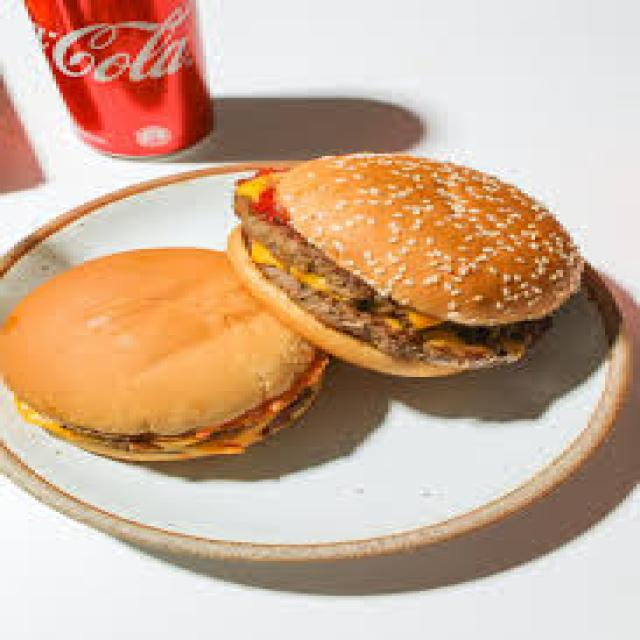햄버거: (227, 154, 584, 382), (0, 247, 332, 465)
